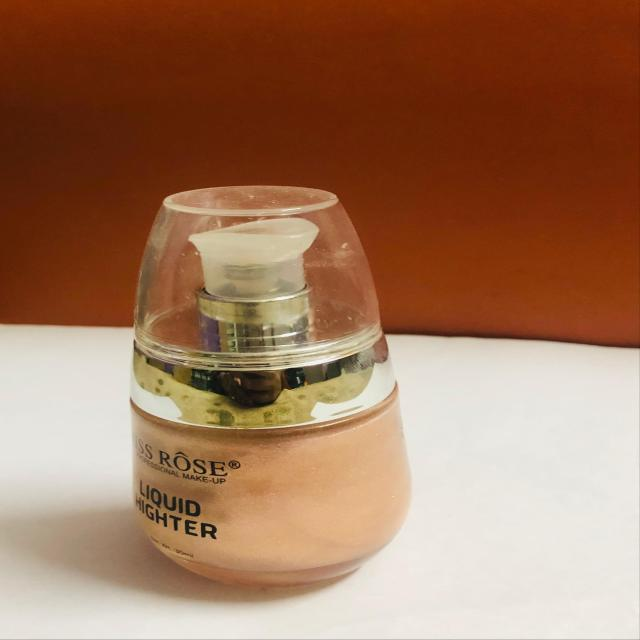foundation: (90, 154, 451, 604)
